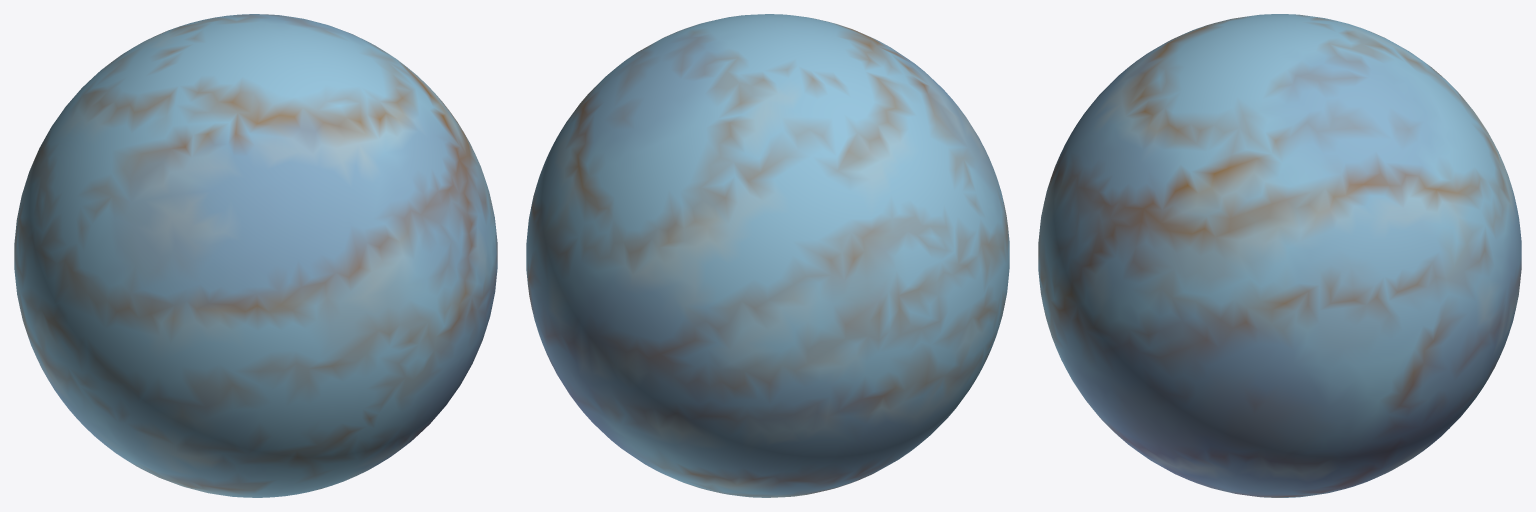
Rendered from planet_ice.fbx.
3 renders of one model, left to right at view 1: azimuth 30°, elevation 25°; view 2: azimuth 150°, elevation 25°; view 3: azimuth 270°, elevation 25°, orthographic.
Parts seen in each view (by area): view 1: planet_ice; view 2: planet_ice; view 3: planet_ice.
Part boxes in pixels (x1,y1,x2,y2): planet_ice: [14, 14, 497, 497]; planet_ice: [526, 14, 1009, 497]; planet_ice: [1038, 14, 1521, 497].
Size of the model in its own units: 184 by 184 by 184.
